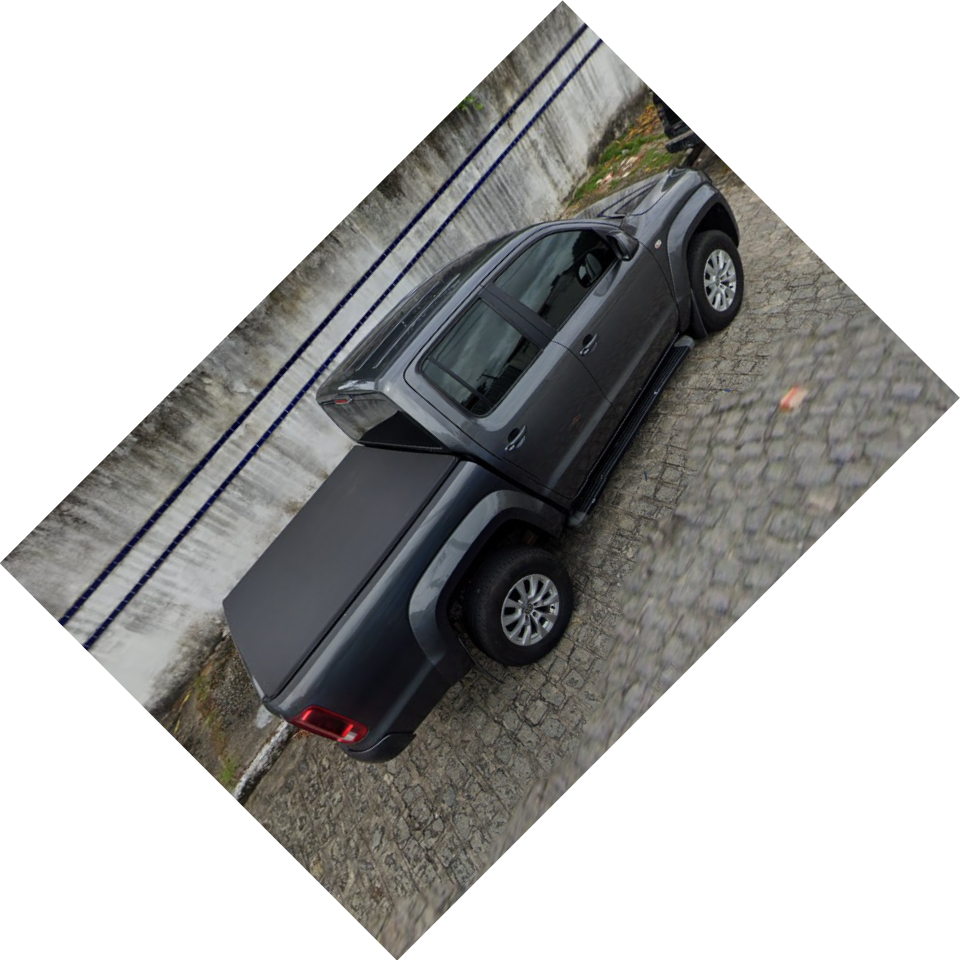car: (221, 162, 744, 765)
